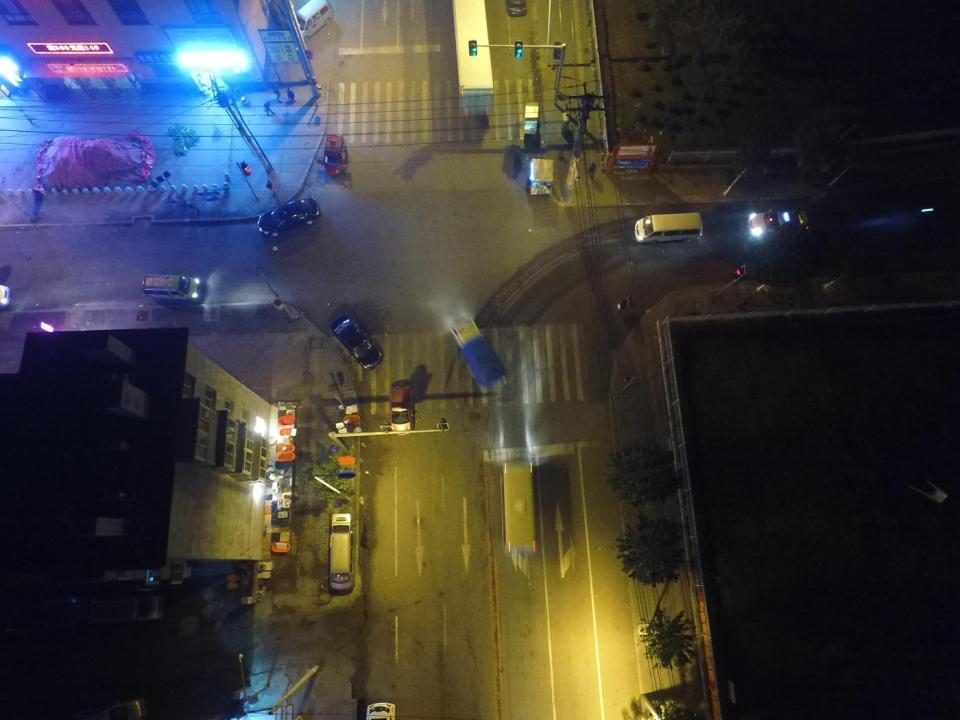bus: (452, 0, 493, 117), (500, 461, 537, 555)
car: (0, 598, 82, 635), (330, 316, 382, 370), (257, 197, 320, 236), (66, 696, 146, 720), (747, 209, 808, 237), (389, 387, 413, 435), (505, 0, 527, 16), (234, 86, 249, 105)
truck: (451, 319, 506, 386)
van: (328, 514, 356, 591), (87, 596, 164, 624), (634, 212, 702, 243), (291, 0, 332, 43), (143, 274, 200, 300)
